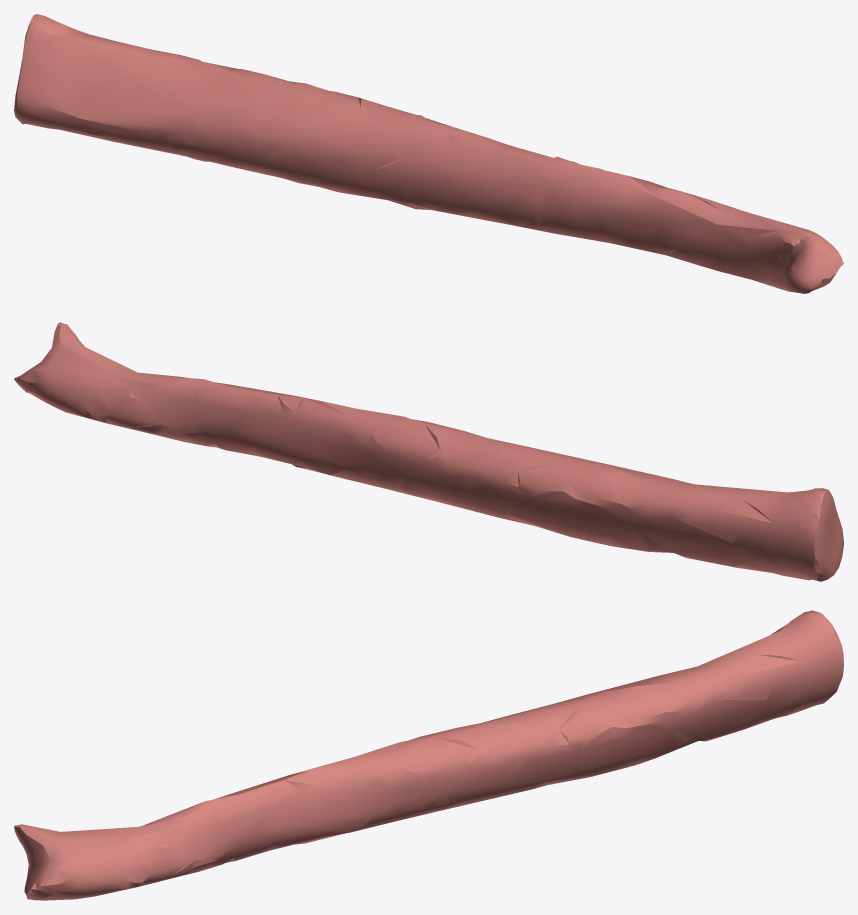
File: fma47247_mm1726.glb
3 renders of one model, top to bottom at view 1: azimuth 30°, elevation 25°; view 2: azimuth 210°, elevation 25°; view 3: azimuth 270°, elevation 25°, orthographic.
Visible parts, largest first — view 1: FMA47247_MM1726; view 2: FMA47247_MM1726; view 3: FMA47247_MM1726.
Part boxes in pixels (x1,y1,x2,y2): FMA47247_MM1726: (14, 14, 843, 293); FMA47247_MM1726: (14, 322, 843, 581); FMA47247_MM1726: (14, 610, 843, 900).
Size of the model in its own units: 0.0316 by 0.00635 by 0.0481.
